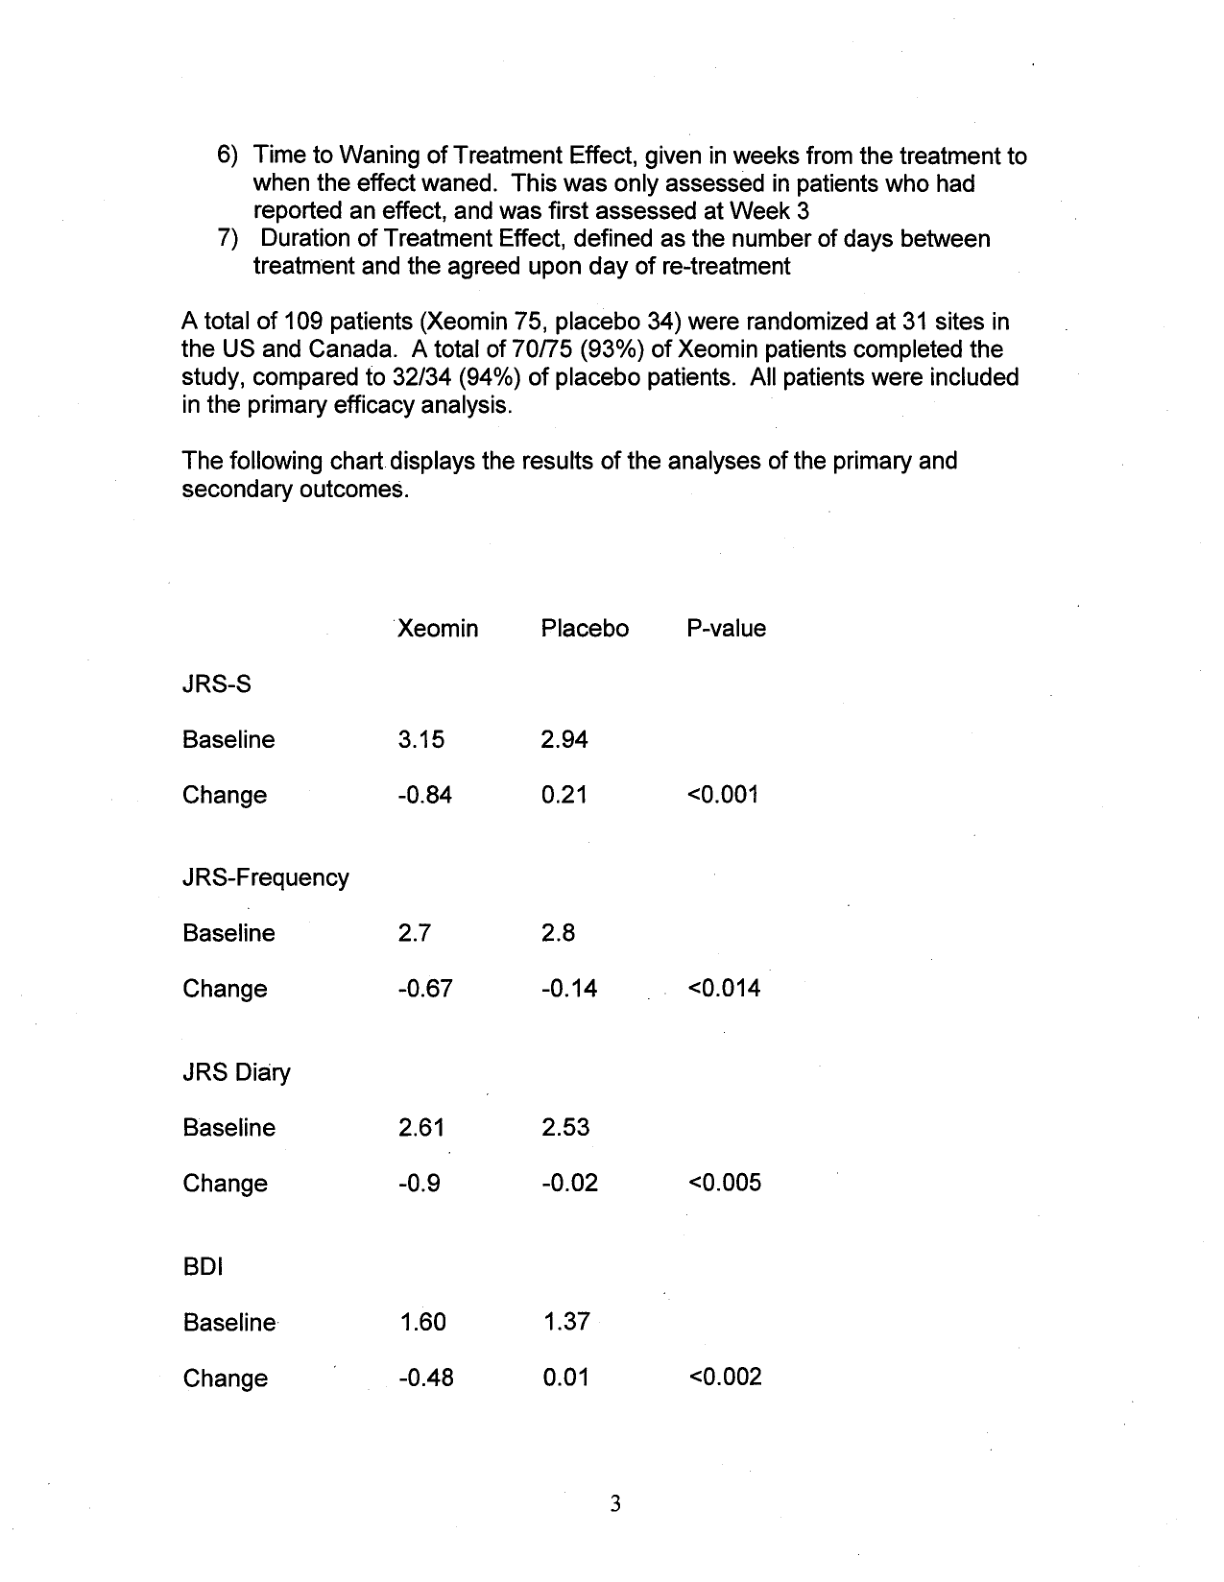nolines: (177, 613, 772, 1395)
